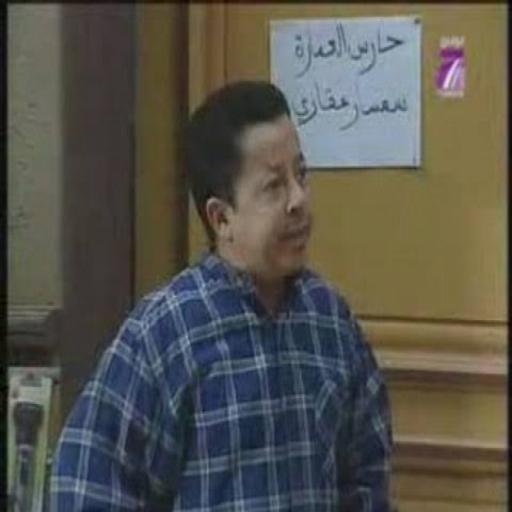fouchika: (206, 117, 313, 279)
